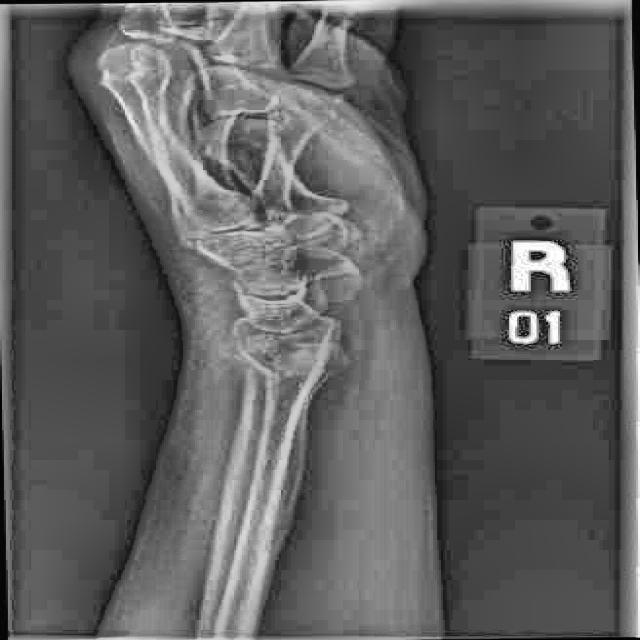fingers positive: (203, 314, 379, 401)
